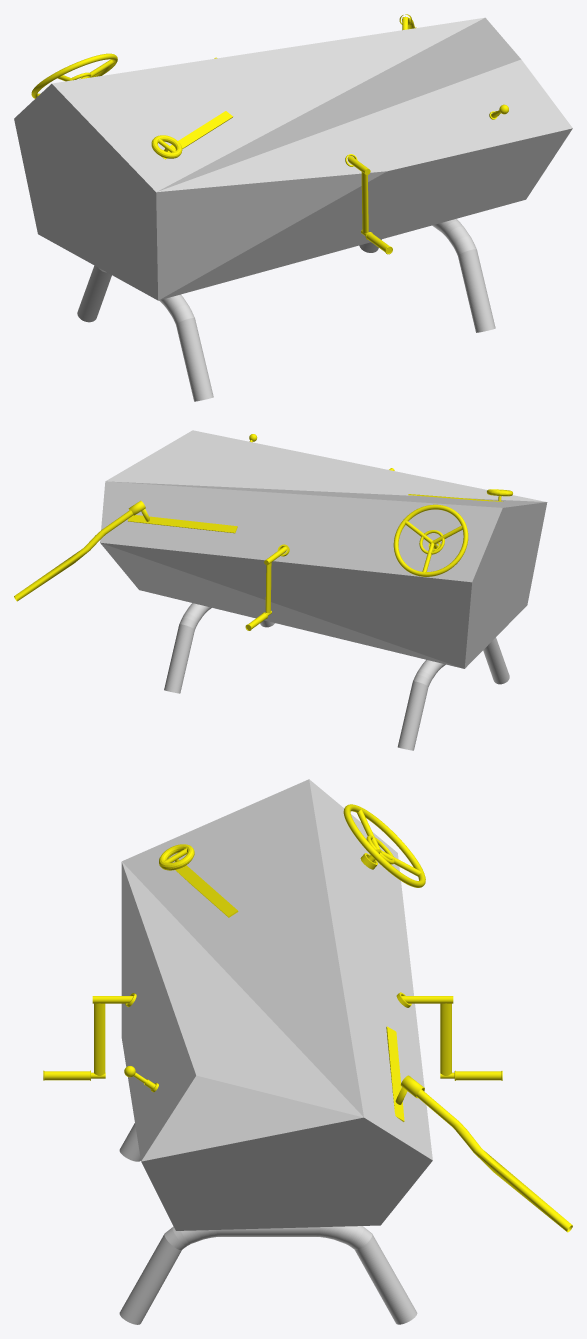
The picture shows the model from 3 angles, top to bottom: view 1: azimuth 30°, elevation 25°; view 2: azimuth 150°, elevation 25°; view 3: azimuth 270°, elevation 25°; orthographic projection. The views are drawn at different scales.
Parts seen in each view (by area): view 1: cuve.009, Cylinder.020, Cylinder.019, Inst4.018, Cylinder.018, Inst Mod.018; view 2: cuve.009, Inst4.018, Cylinder.041, Cylinder.018, Cylinder.021, Inst Mod.018, Cylinder.019; view 3: cuve.009, Inst Mod.018, Inst4.018, Cylinder.021, Cylinder.020, Cylinder.041.
Part boxes in pixels (left/top/right/bottom): cuve.009: left=14, top=17, right=572, bottom=300; Cylinder.020: left=432, top=219, right=495, bottom=332; Cylinder.019: left=159, top=294, right=213, bottom=401; Inst4.018: left=31, top=53, right=233, bottom=159; Cylinder.018: left=77, top=265, right=111, bottom=322; Inst Mod.018: left=214, top=57, right=497, bottom=254; cuve.009: left=100, top=430, right=547, bottom=668; Inst4.018: left=393, top=489, right=512, bottom=576; Cylinder.041: left=14, top=500, right=237, bottom=601; Cylinder.018: left=397, top=659, right=445, bottom=750; Cylinder.021: left=164, top=603, right=211, bottom=693; Inst Mod.018: left=245, top=468, right=440, bottom=630; Cylinder.019: left=483, top=637, right=509, bottom=684; cuve.009: left=121, top=779, right=432, bottom=1230; Inst Mod.018: left=43, top=853, right=502, bottom=1092; Inst4.018: left=159, top=804, right=425, bottom=917; Cylinder.021: left=275, top=1226, right=417, bottom=1324; Cylinder.020: left=119, top=1226, right=275, bottom=1324; Cylinder.041: left=386, top=1026, right=572, bottom=1232.
Bounding box in the file's own units: 2.2 × 1.24 × 1.87.
